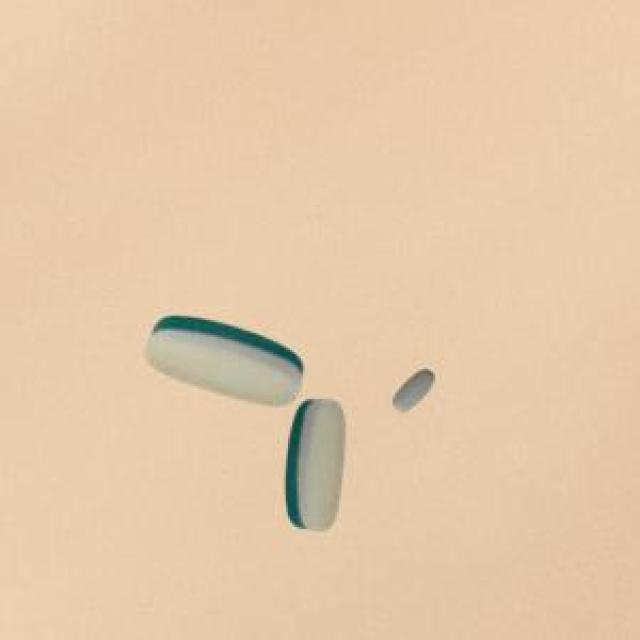Neozep: (128, 299, 358, 544), (384, 362, 441, 422)
